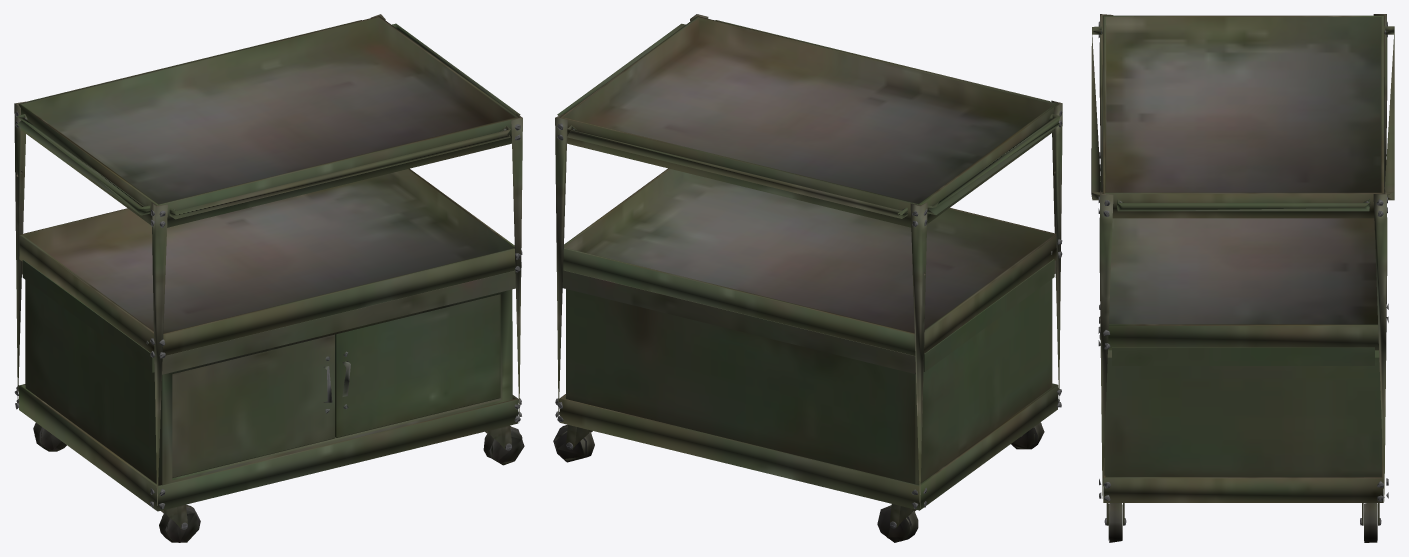
Rendered from cc0_medical_cart.glb.
3 renders of one model, left to right at view 1: azimuth 30°, elevation 25°; view 2: azimuth 150°, elevation 25°; view 3: azimuth 270°, elevation 25°, orthographic.
Visible parts, largest first — view 1: industrial_storage_cart; view 2: industrial_storage_cart; view 3: industrial_storage_cart.
Part boxes in pixels (left/top/right/bottom): industrial_storage_cart: left=14, top=14, right=524, bottom=542; industrial_storage_cart: left=553, top=14, right=1062, bottom=542; industrial_storage_cart: left=1091, top=14, right=1394, bottom=542.
Size of the model in its own units: 1.58 by 1.38 by 1.08.
Materials: 1 (1 with a texture image).
